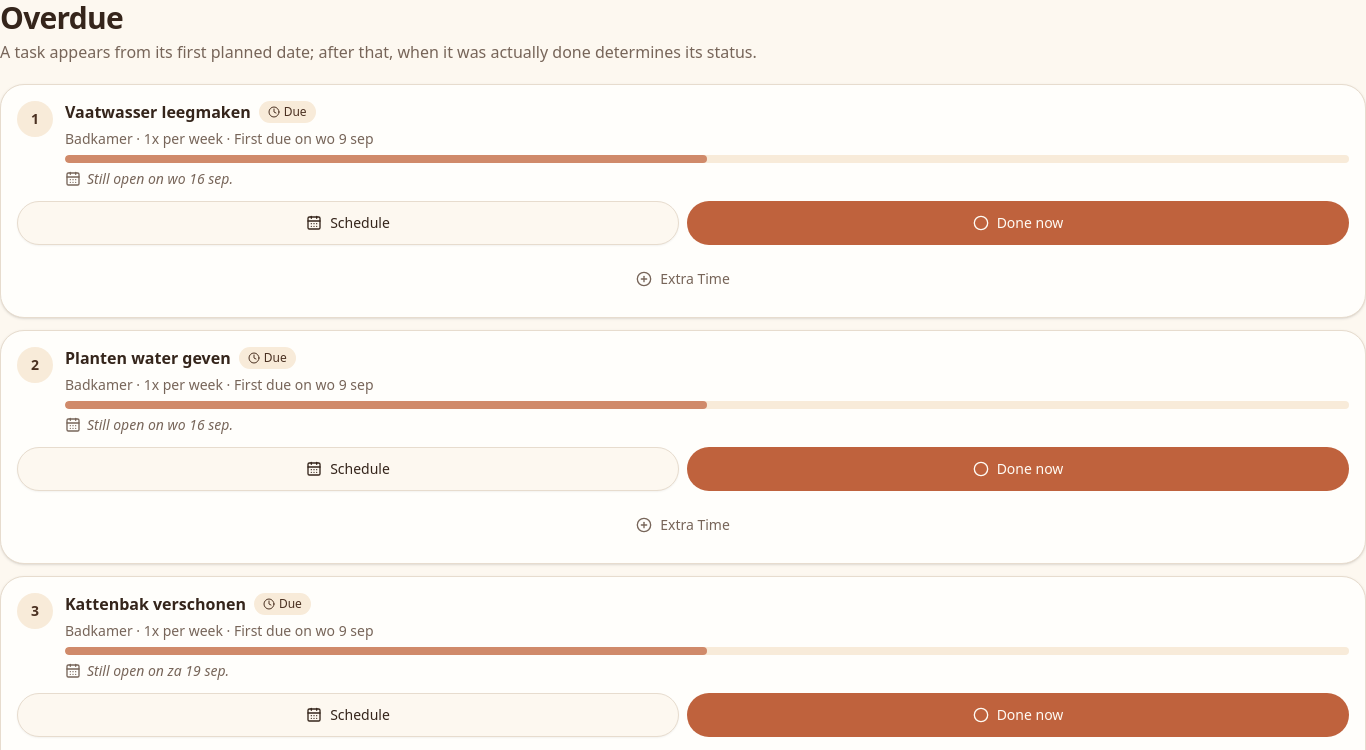
Scenario: DuePage › "Nu gedaan" for work that is planned today for someone else › is worded in English too
Click the button with aria-label "Vaatwasser leegmaken done now": click(1018, 223) top-left (687, 201), bottom-right (1349, 245)
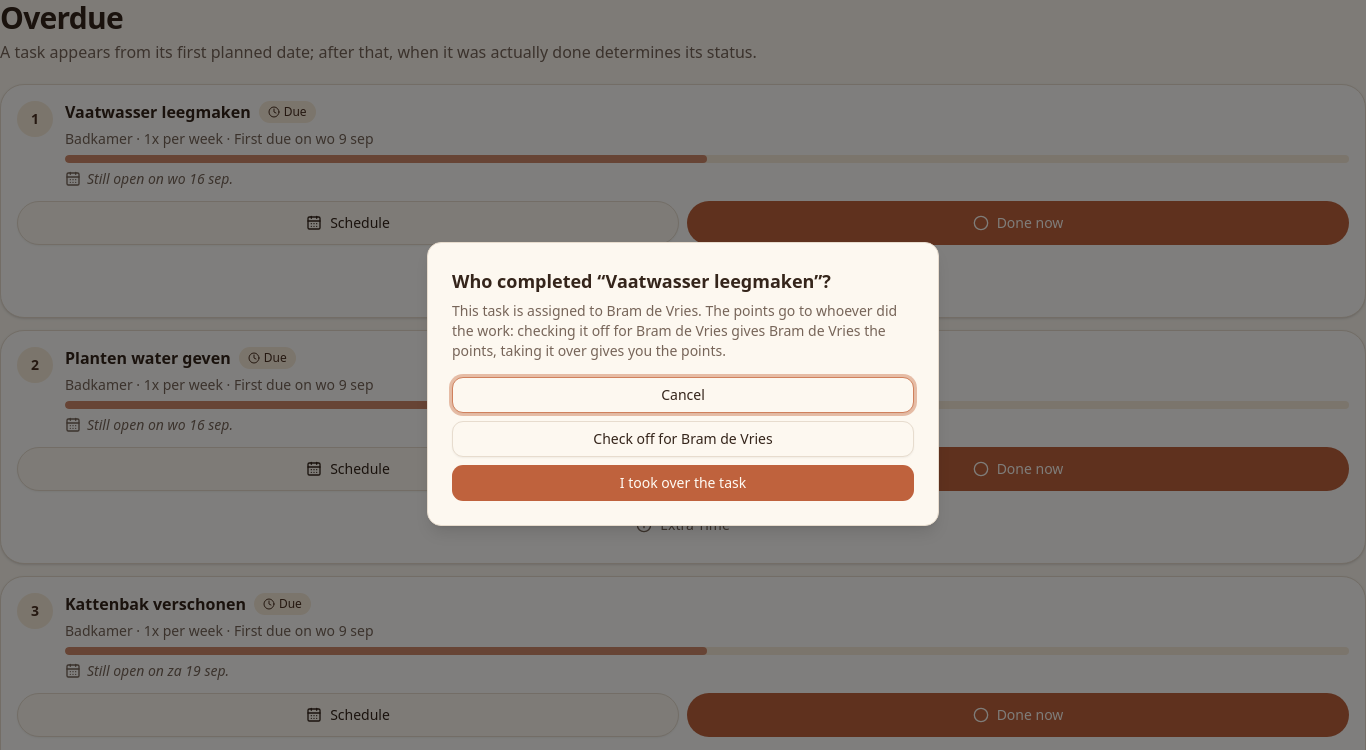
Now the dialog shows "Who completed “Vaatwasser leegmaken”?", box top-left (452, 269), bottom-right (831, 293)
Now the dialog shows "checking it off for Bram de Vries gives Bram de Vries the points", box top-left (452, 301), bottom-right (897, 360)
Now the dialog shows "taking it over gives you the points", box top-left (452, 301), bottom-right (897, 360)
